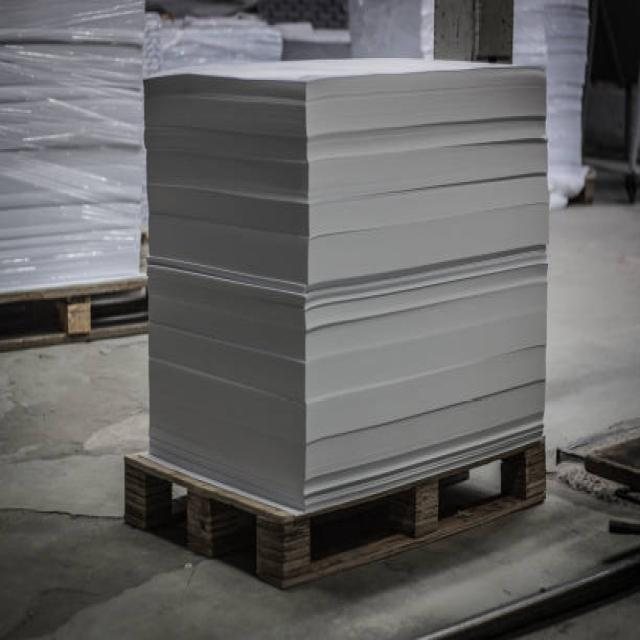Wooden-Pallets: (123, 439, 549, 593)
